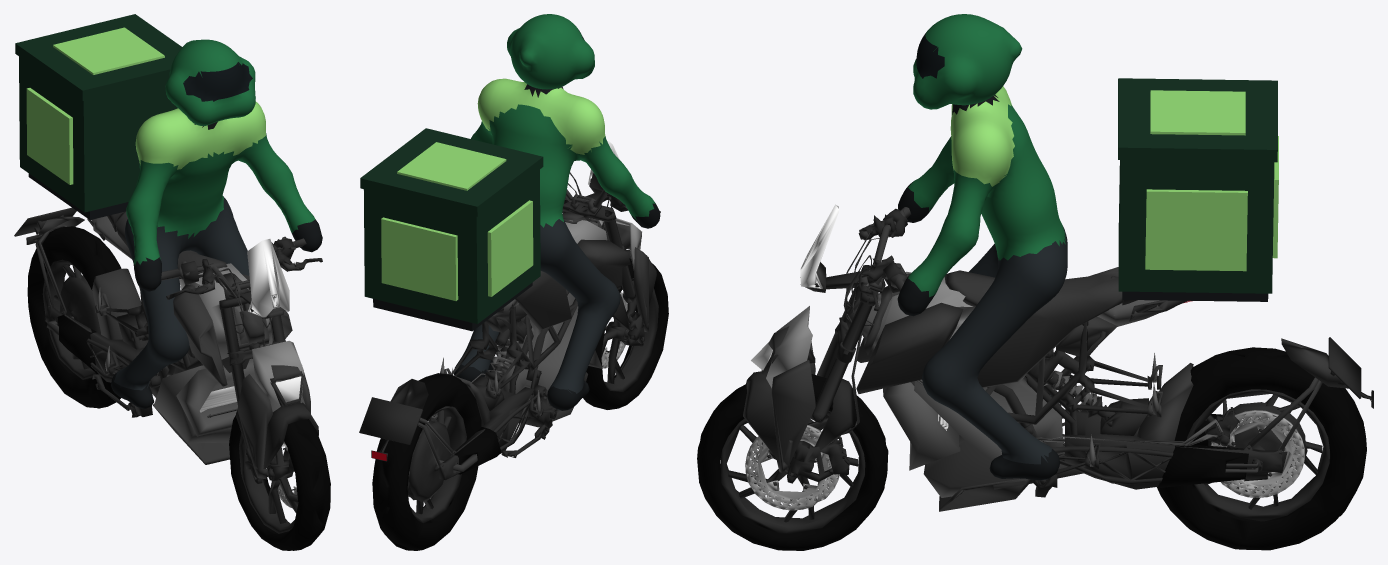
File: rider.glb
The picture shows the model from 3 angles, left to right: view 1: azimuth 30°, elevation 25°; view 2: azimuth 150°, elevation 25°; view 3: azimuth 270°, elevation 25°; orthographic projection. The views are drawn at different scales.
Parts seen in each view (by area): view 1: Rider_Box, Bike_Metallic_Material, Rider_Uniform, Bike_Base_Material_02, Bike_Wheel, Rider_HiVis, Rider_Trouser, Bike_Grey_Metallic, Bike_Glass, Bike_highlight_part, Rider_Dark, Rider_Visor; view 2: Bike_Metallic_Material, Rider_Box, Rider_HiVis, Rider_Uniform, Bike_Wheel, Bike_Base_Material_02, Rider_Trouser, Bike_Grey_Metallic, Rider_Dark, Bike_highlight_part; view 3: Bike_Metallic_Material, Bike_Wheel, Bike_Base_Material_02, Rider_Box, Rider_Uniform, Rider_HiVis, Rider_Trouser, Bike_Grey_Metallic, Bike_Metallic, Rider_Dark, Bike_highlight_part, Bike_Glass (+1 smaller).
Part boxes in pixels (left/top/right/bottom): Rider_Box: left=15, top=14, right=181, bottom=212; Bike_Metallic_Material: left=14, top=207, right=322, bottom=533; Rider_Uniform: left=126, top=39, right=314, bottom=265; Bike_Base_Material_02: left=35, top=211, right=310, bottom=479; Bike_Wheel: left=27, top=226, right=330, bottom=550; Rider_HiVis: left=26, top=27, right=265, bottom=184; Rider_Trouser: left=114, top=196, right=249, bottom=390; Bike_Grey_Metallic: left=92, top=216, right=299, bottom=443; Bike_Glass: left=200, top=239, right=301, bottom=412; Bike_highlight_part: left=179, top=263, right=305, bottom=411; Rider_Dark: left=28, top=121, right=322, bottom=408; Rider_Visor: left=183, top=62, right=252, bottom=101; Bike_Metallic_Material: left=359, top=178, right=660, bottom=523; Rider_Box: left=360, top=128, right=543, bottom=323; Rider_HiVis: left=381, top=78, right=605, bottom=300; Rider_Uniform: left=471, top=14, right=655, bottom=227; Bike_Wheel: left=372, top=258, right=668, bottom=550; Bike_Base_Material_02: left=390, top=172, right=648, bottom=472; Rider_Trouser: left=457, top=219, right=620, bottom=410; Bike_Grey_Metallic: left=431, top=221, right=602, bottom=418; Rider_Dark: left=373, top=84, right=660, bottom=410; Bike_highlight_part: left=565, top=218, right=641, bottom=270; Bike_Metallic_Material: left=720, top=208, right=1373, bottom=533; Bike_Wheel: left=697, top=347, right=1366, bottom=550; Bike_Base_Material_02: left=761, top=207, right=1348, bottom=511; Rider_Box: left=1118, top=78, right=1277, bottom=293; Rider_Uniform: left=908, top=14, right=1065, bottom=297; Rider_HiVis: left=950, top=86, right=1278, bottom=271; Rider_Trouser: left=922, top=226, right=1067, bottom=480; Bike_Grey_Metallic: left=862, top=283, right=1222, bottom=497; Bike_Metallic: left=745, top=410, right=1304, bottom=510; Rider_Dark: left=897, top=95, right=1268, bottom=480; Bike_highlight_part: left=766, top=271, right=974, bottom=388; Bike_Glass: left=751, top=204, right=1190, bottom=430.
Bounding box in the file's own units: 0.8103 × 1.89 × 2.18.
